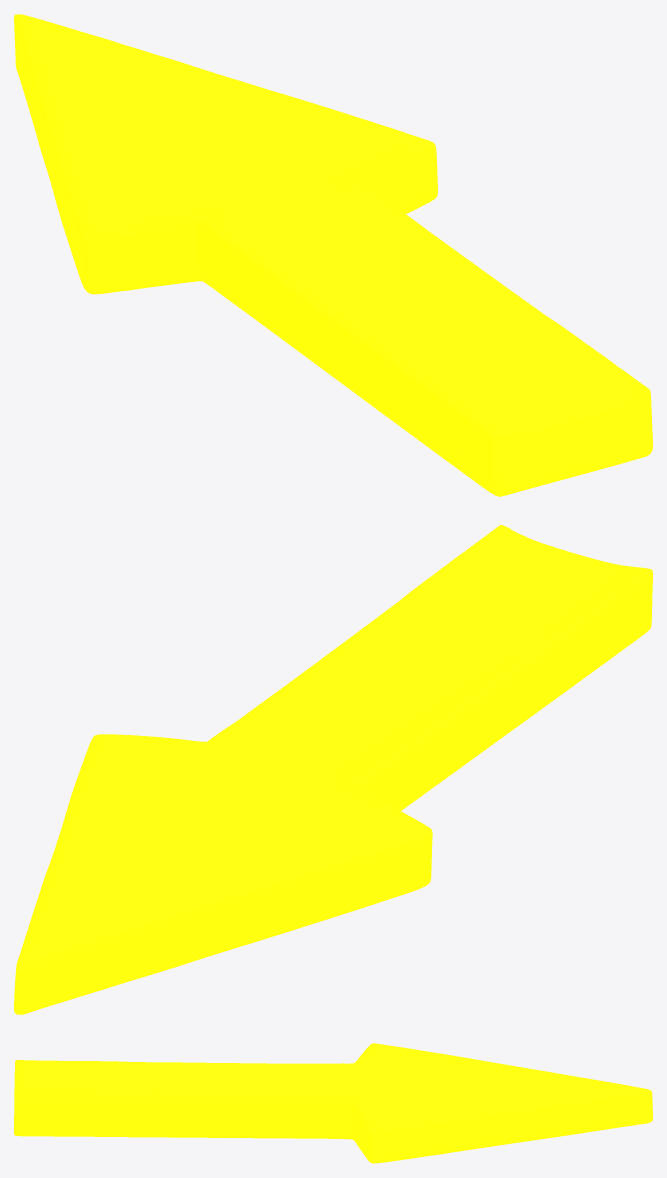
Rendered from modelYellow.glb.
The picture shows the model from 3 angles, top to bottom: view 1: azimuth 30°, elevation 25°; view 2: azimuth 150°, elevation 25°; view 3: azimuth 270°, elevation 25°; orthographic projection. The views are drawn at different scales.
Visible parts, largest first — view 1: Mesh_0.004; view 2: Mesh_0.004; view 3: Mesh_0.004.
Part boxes in pixels (x1,y1,x2,y2): Mesh_0.004: [14, 14, 652, 496]; Mesh_0.004: [14, 525, 652, 1014]; Mesh_0.004: [14, 1043, 652, 1163].
Size of the model in its own units: 0.717 by 0.1574 by 2.
